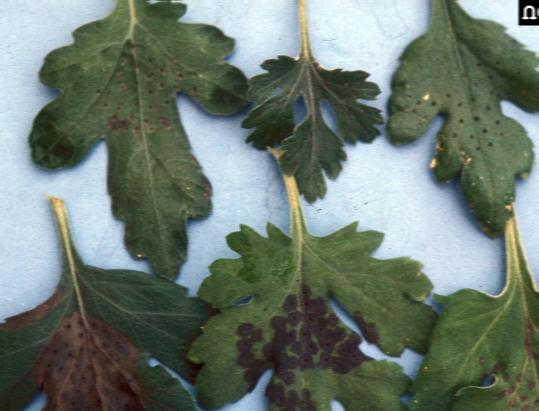Tomato leaf bacterial spot: (19, 9, 266, 296), (384, 11, 539, 260), (400, 223, 539, 411), (245, 19, 386, 198)
